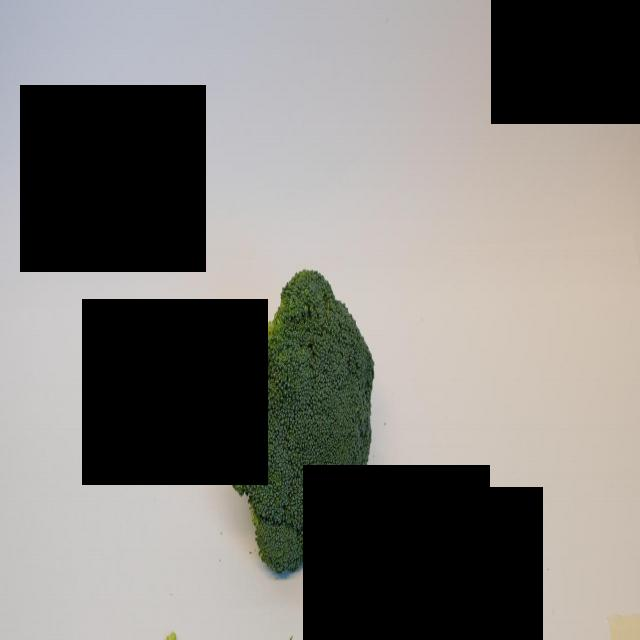broccoli: (216, 260, 380, 586)
